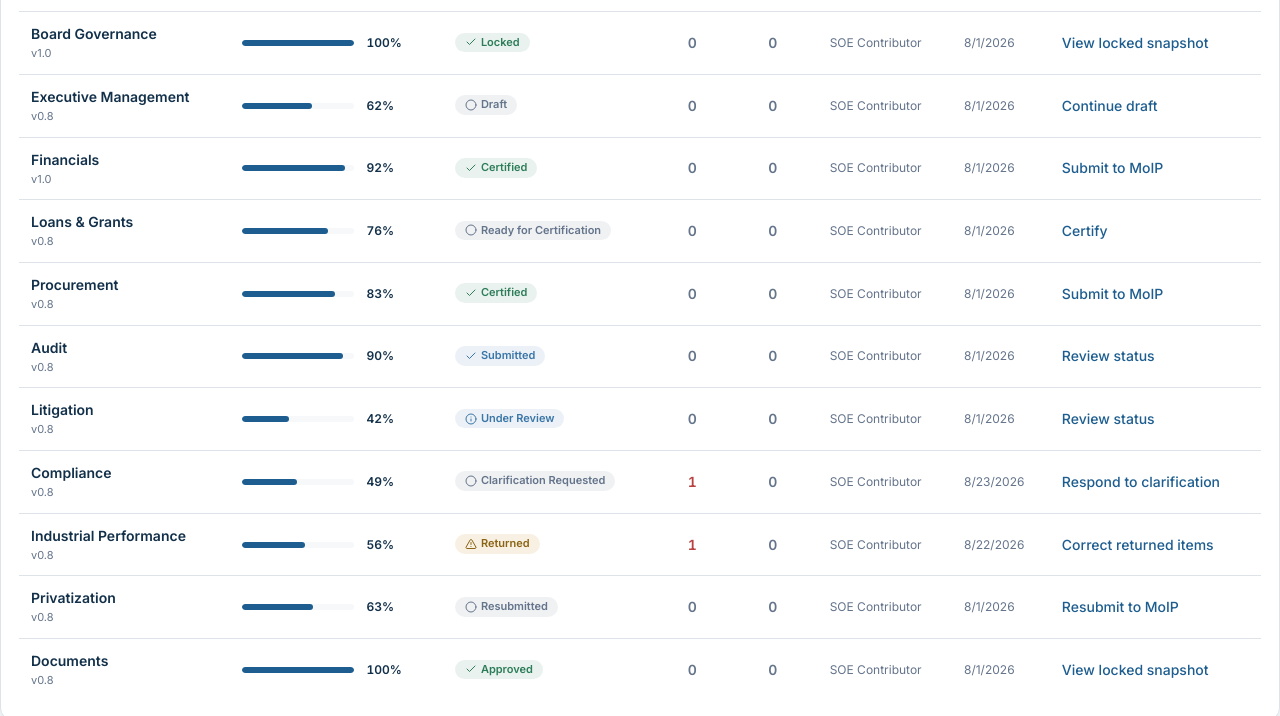
SOE Data Entry submissions and returns › shows reviewer comments for returned submissions in the review drawer
(page scrolled)
Step 1. Click the button with aria-label "Review Industrial Performance submission" → click(108, 535), box left=19, top=513, right=1261, bottom=576
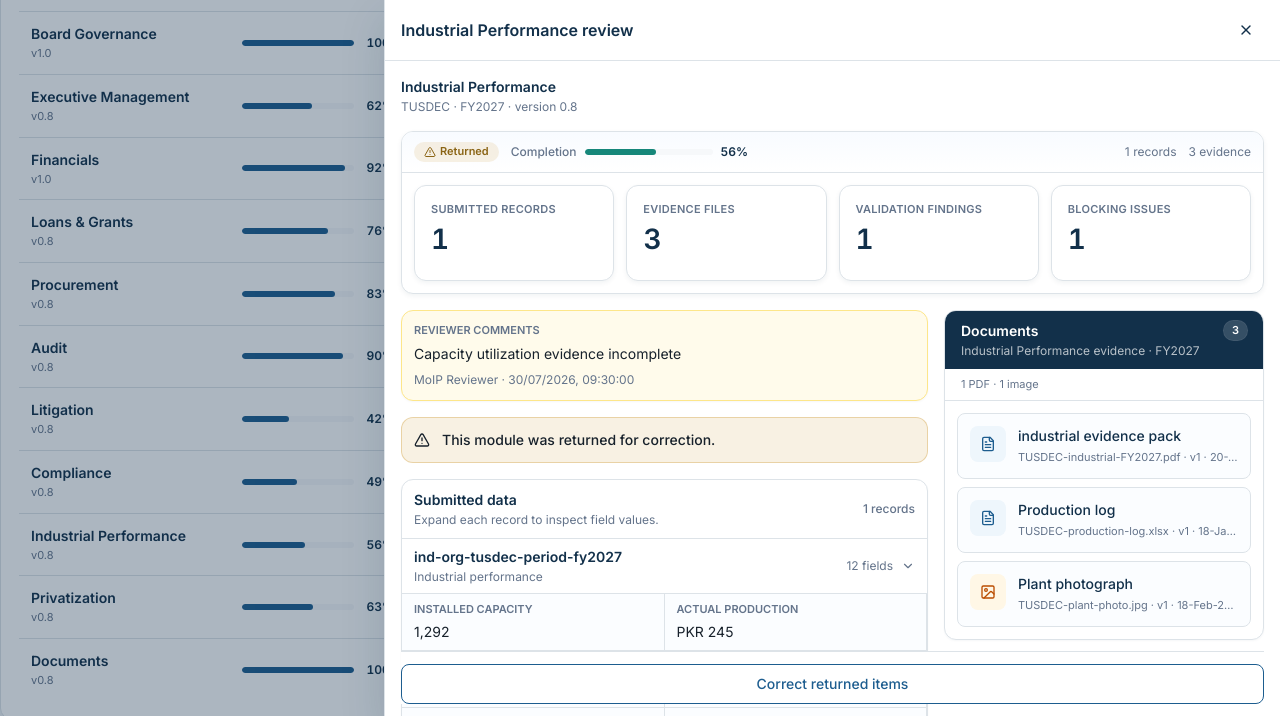
Now the text "Reviewer comments" is shown, box left=414, top=323, right=540, bottom=337
Now the text "Capacity utilization evidence incomplete" is shown, box left=414, top=345, right=681, bottom=362
